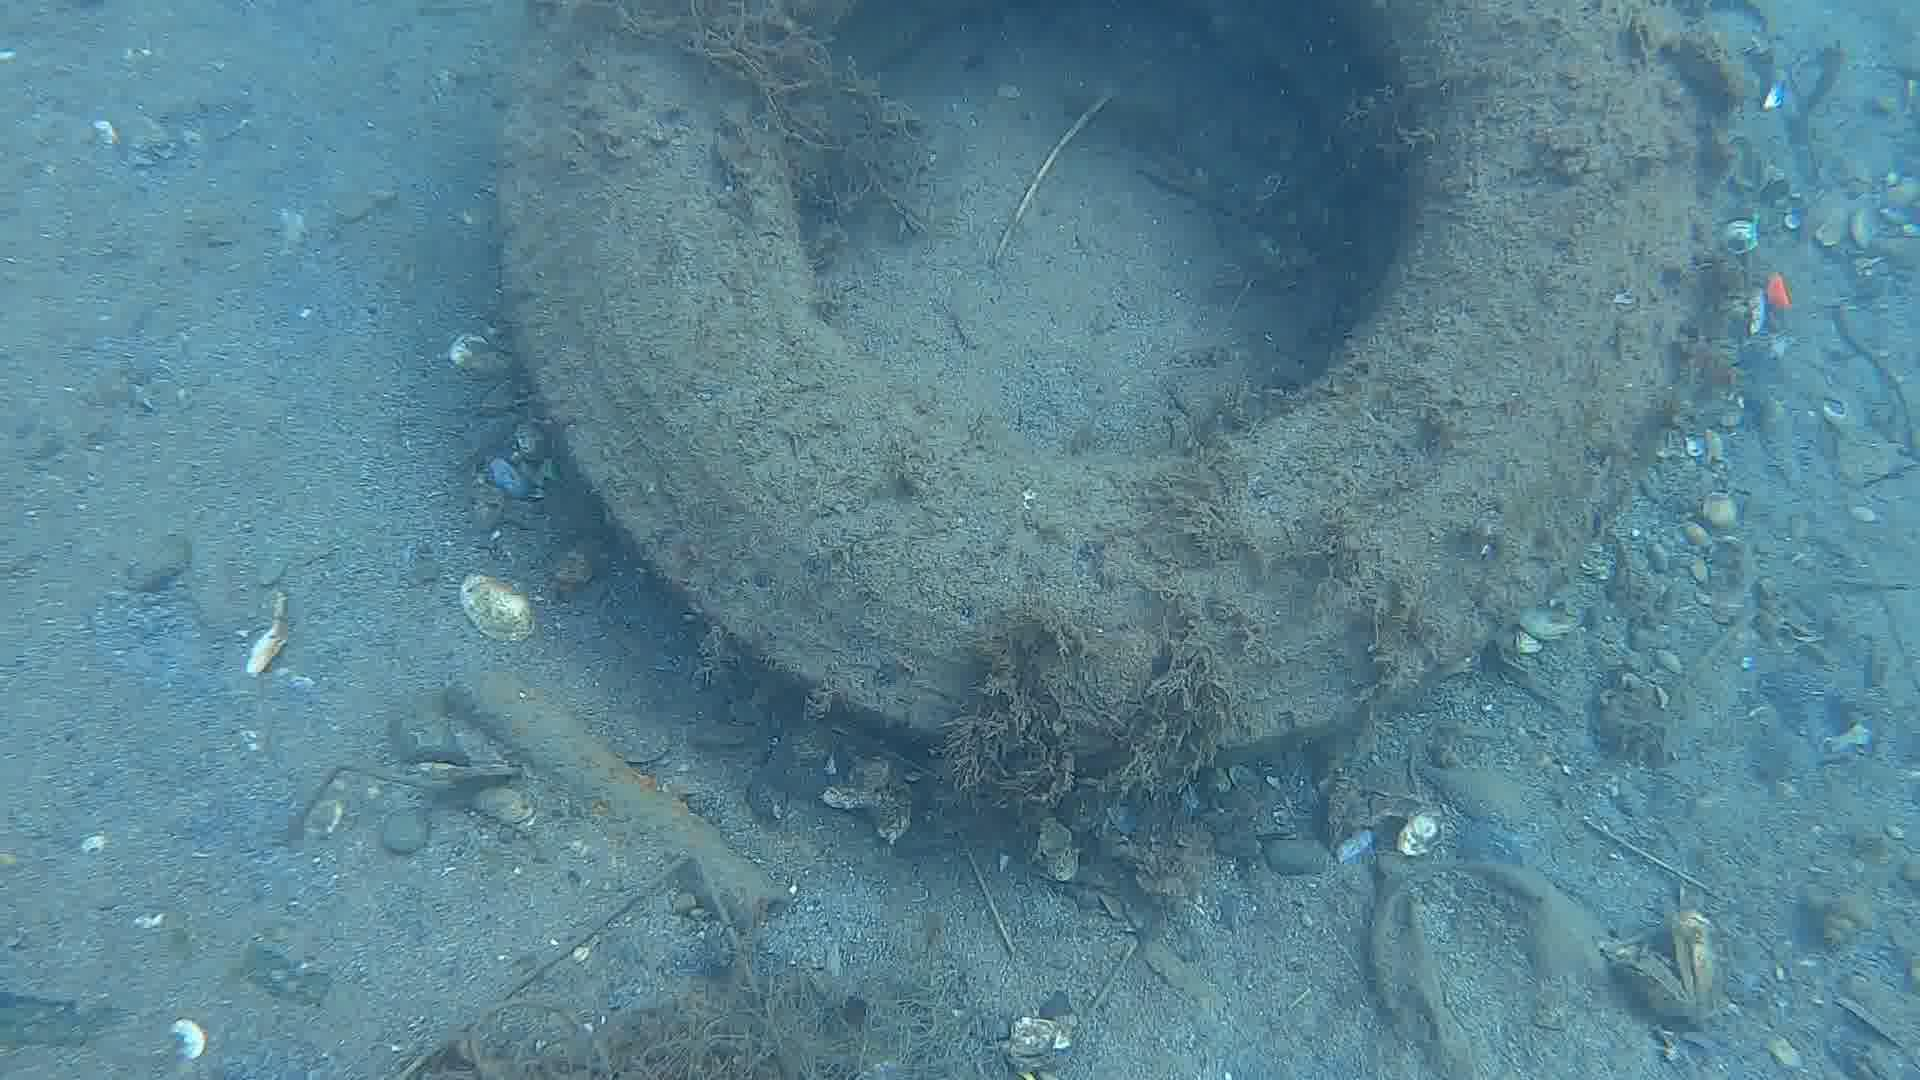tire: (492, 0, 1704, 769)
